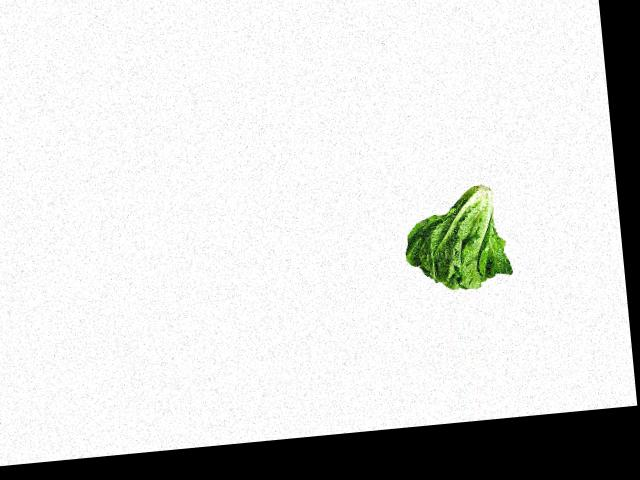lettuce: (397, 177, 512, 296)
